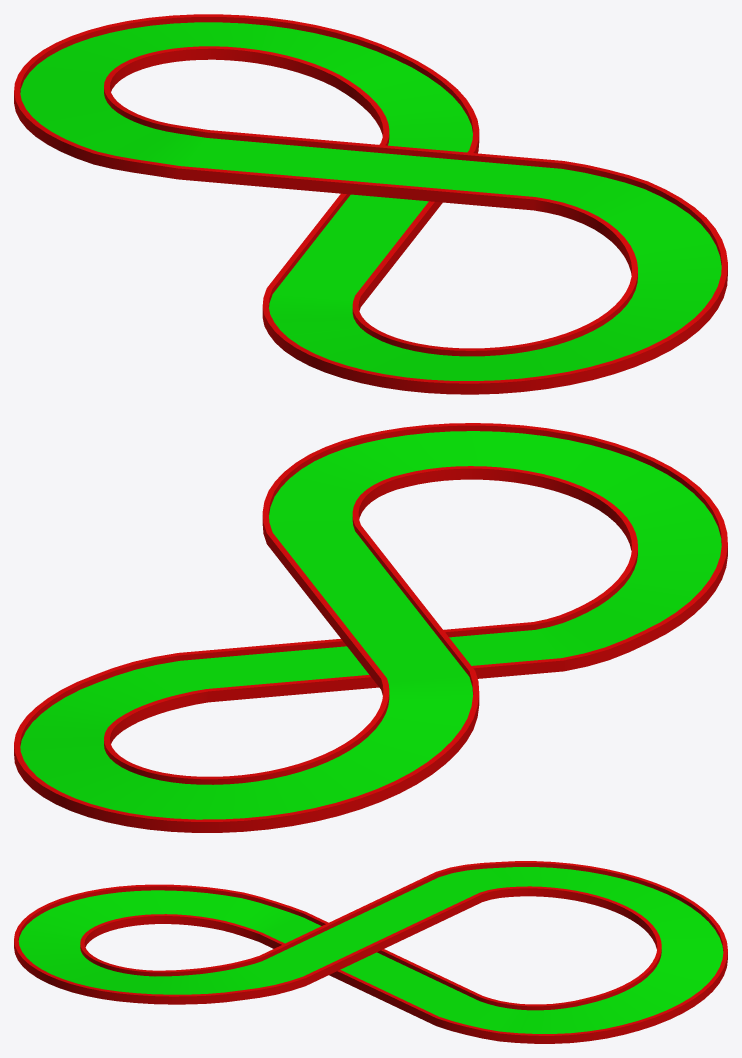
File: raceTrackEdge_MESH.fbx
3 views of the same model, one above another, from view 1: azimuth 30°, elevation 25°; view 2: azimuth 150°, elevation 25°; view 3: azimuth 270°, elevation 25° (orthographic). The views are drawn at different scales.
Parts seen in each view (by area): view 1: polySurface1; view 2: polySurface1; view 3: polySurface1.
Boxes of the visible parts, x1=… form: polySurface1: x1=14, y1=14, x2=727, y2=394; polySurface1: x1=14, y1=423, x2=727, y2=832; polySurface1: x1=14, y1=861, x2=727, y2=1043.
Bounding box in the file's own units: 76.14 × 12.3 × 161.
